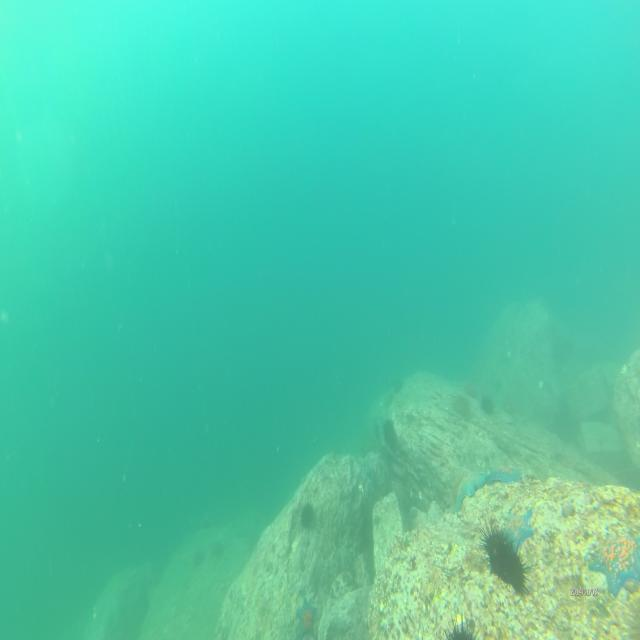echinus: (483, 524, 532, 605), (441, 609, 476, 640), (298, 500, 317, 536), (452, 388, 470, 423), (479, 391, 496, 422), (379, 416, 396, 446), (190, 542, 208, 570), (388, 372, 406, 396)
starfish: (587, 530, 640, 598), (453, 471, 489, 518), (294, 595, 318, 640), (489, 461, 525, 488)
